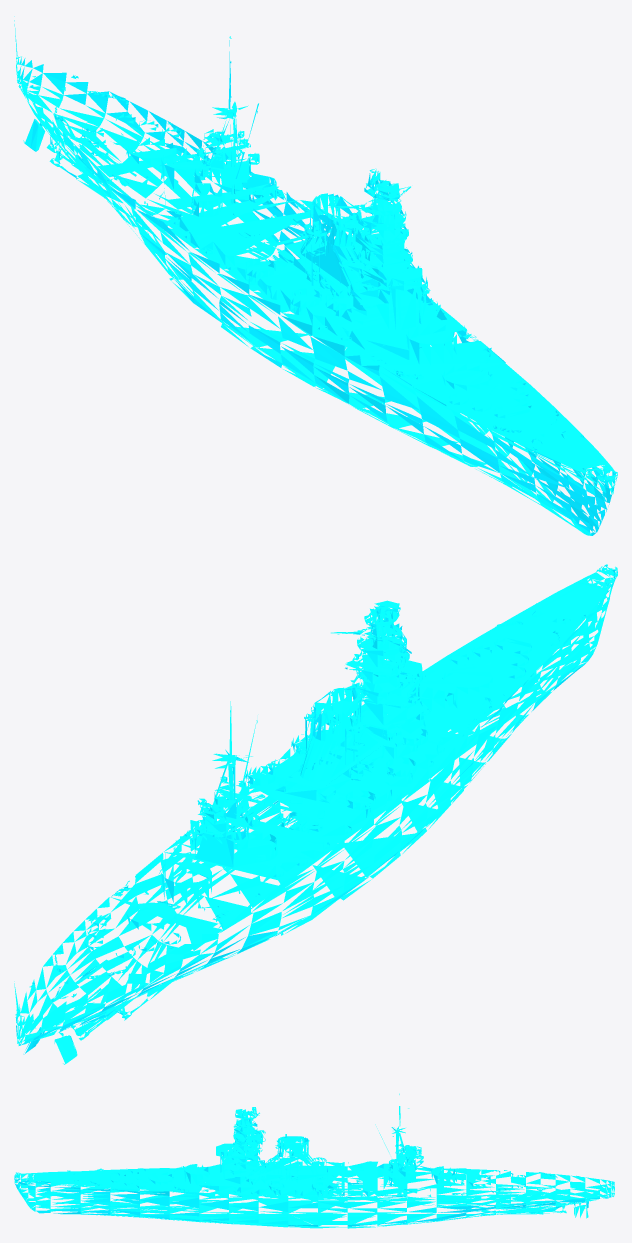
Rendered from Yumihari.glb.
3 renders of one model, top to bottom at view 1: azimuth 30°, elevation 25°; view 2: azimuth 150°, elevation 25°; view 3: azimuth 270°, elevation 25°, orthographic. The views are drawn at different scales.
Bounding box in the file's own units: 2.13 × 3.75 × 17.02.
